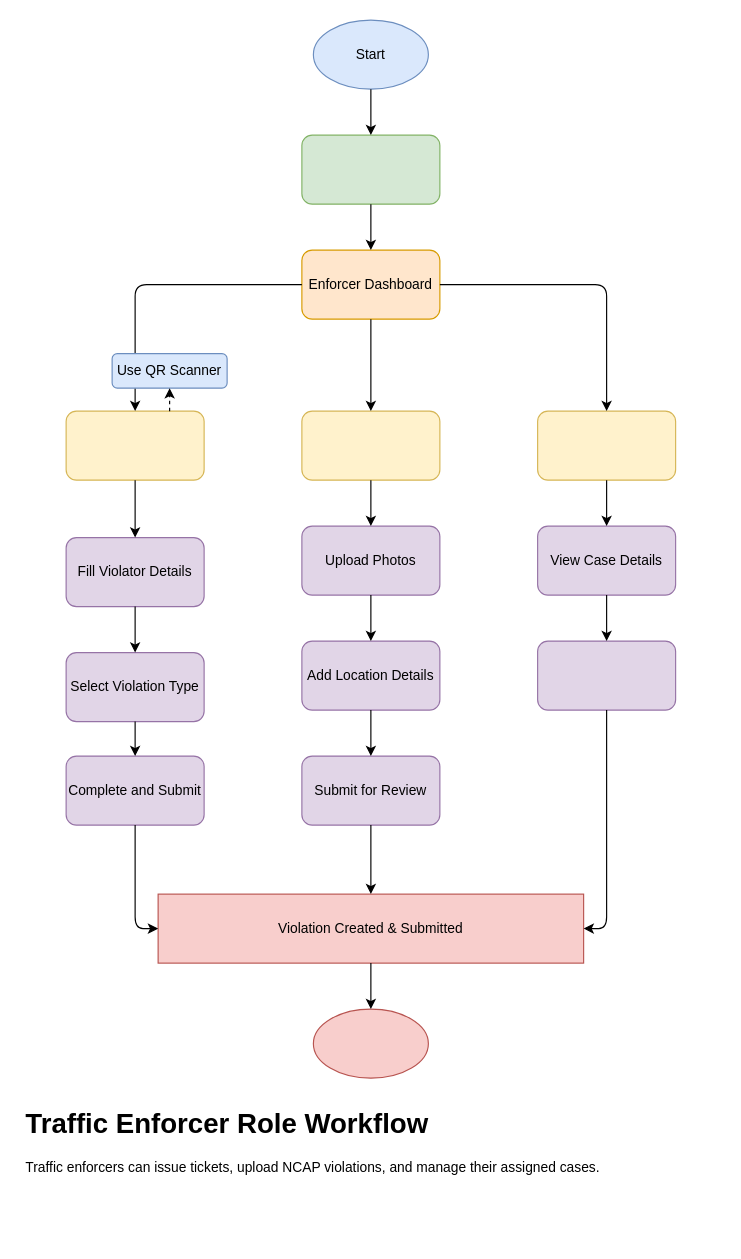
This 741x1259 diagram has some shape labels left out. The centre of each missing label's shape, as x and y in pixels:
End: pixel 370 1043
Issue Ticket: pixel 134 445
Login as Enforcer: pixel 370 169
Update Case Status: pixel 606 675
Upload NCAP Violation: pixel 370 445
View Assigned Cases: pixel 606 445
